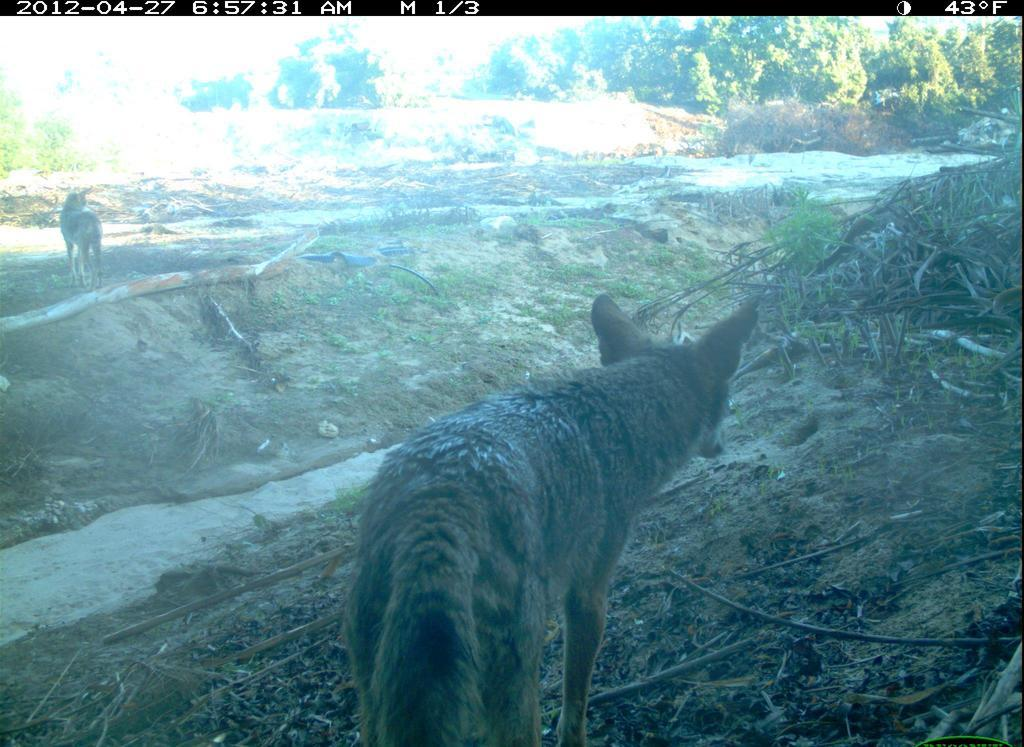coyote: (327, 286, 763, 734), (49, 180, 129, 303)
